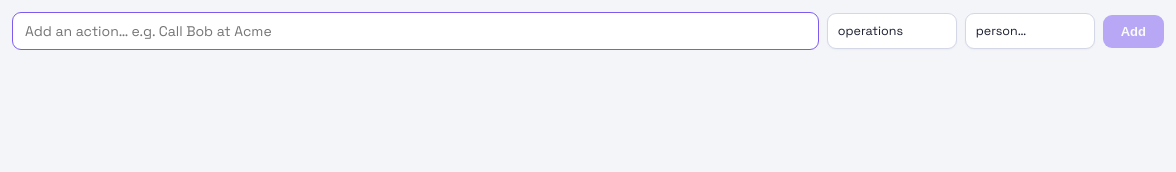
Test: QuickAdd (embedded, debounced inference) › auto-classifies after you stop typing and sets the inferred area
This screenshot has width=1176, height=172.
In the field with placeholder "Add an action… e.g. Call Bob at Acme": (415, 31) left=12, top=12, right=819, bottom=50, type "Call Bob at Acme"
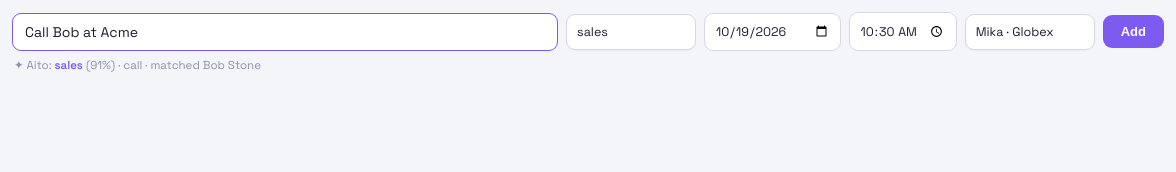
expect the text "✦ Aito: sales (91%) · call · matched Bob Stone" is shown: met, box left=14, top=58, right=261, bottom=72
